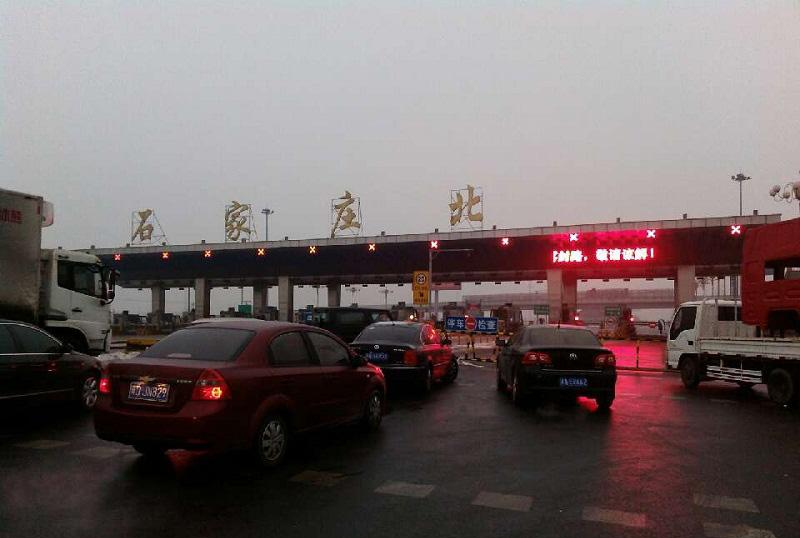bus: (1, 188, 115, 391), (658, 299, 800, 403)
car: (92, 320, 384, 466), (1, 320, 105, 436), (493, 320, 618, 413), (345, 320, 459, 397), (307, 305, 401, 370)
